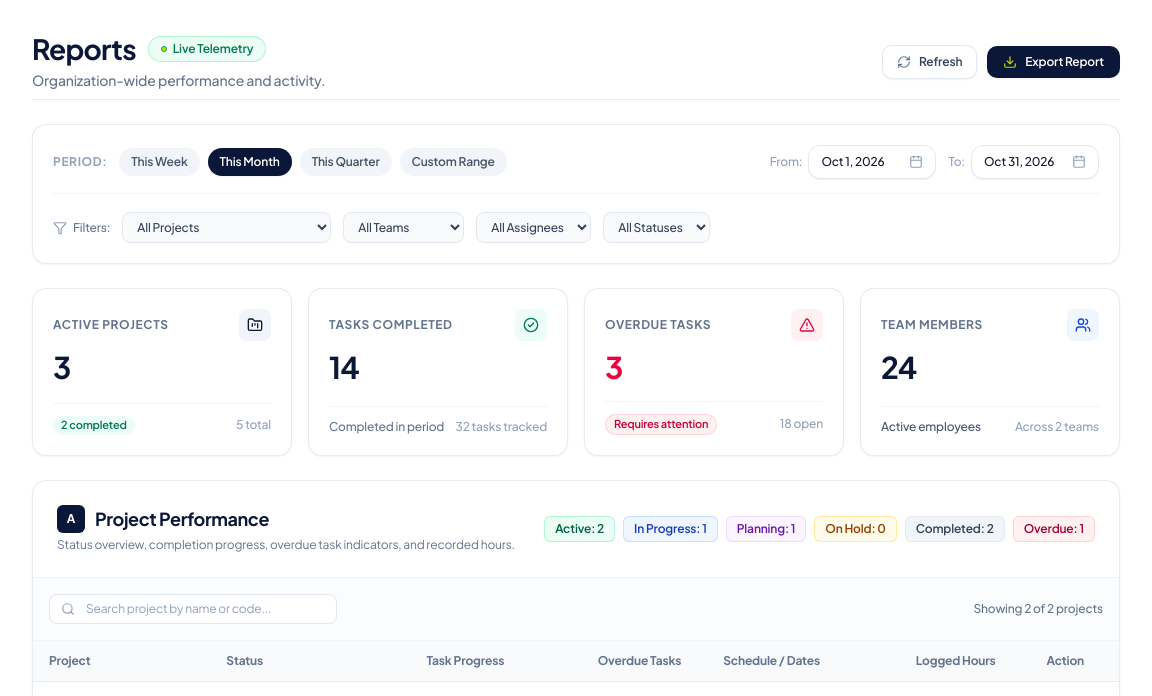
it: AdminReportsView UI/UX & Interactivity › allows period preset selection and filter dropdown interactions
Switch to This Week
Click the button "This Week". click: (160, 162)
box: [119,148,200,176]
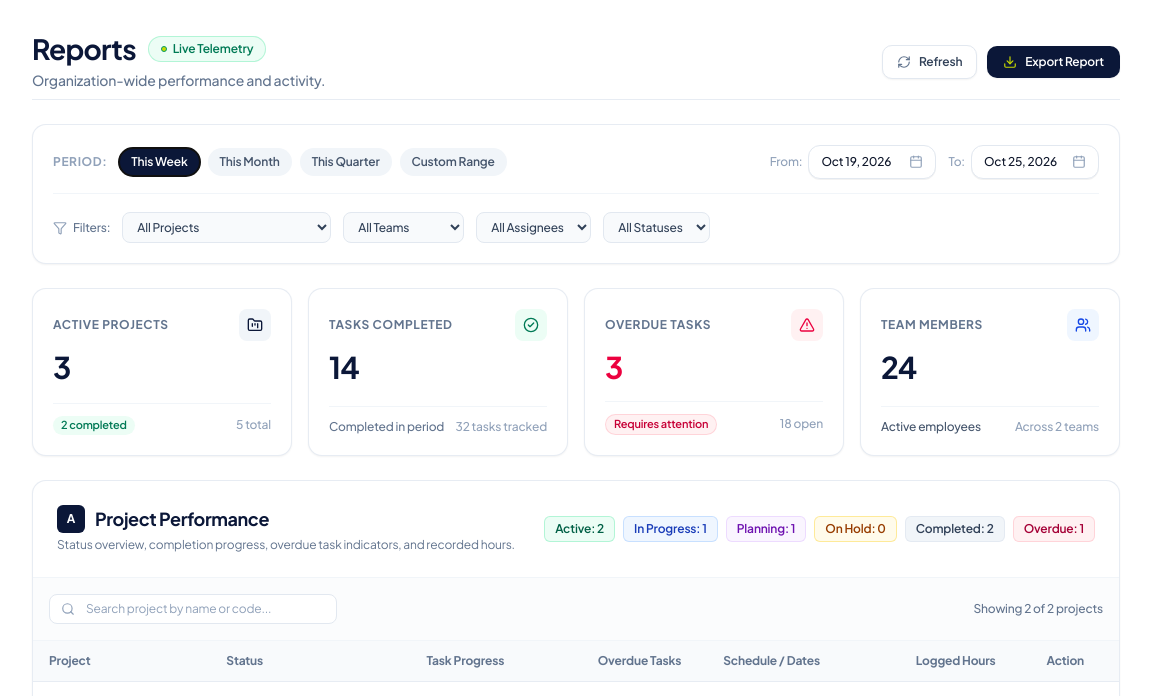
Expected: the button "This Week" has class "bg-[#0B1738]", [119,148,200,176]
Switch to This Quarter
Click the button "This Quarter". click: (346, 162)
box: [300,148,392,176]
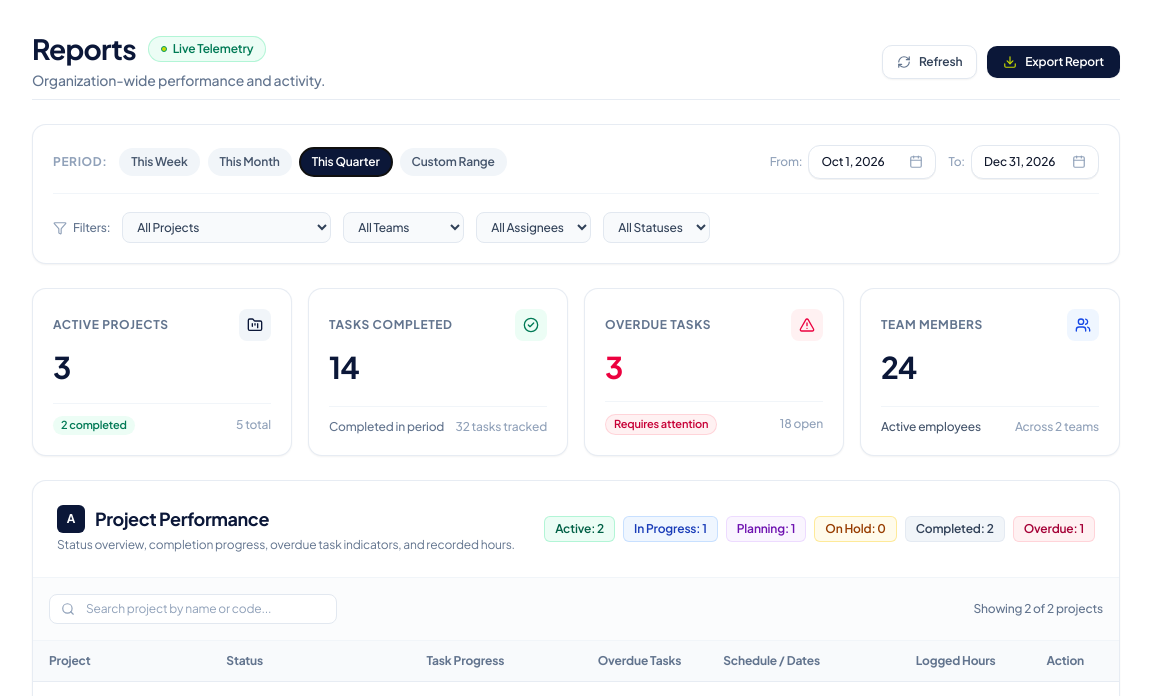
Expected: the button "This Quarter" has class "bg-[#0B1738]", [300,148,392,176]
Filter by project
Select "[ECP] Enterprise Cloud Portal" in the dropdown titled "Filter by Project". click: (227, 228)
box: [122,212,331,243]
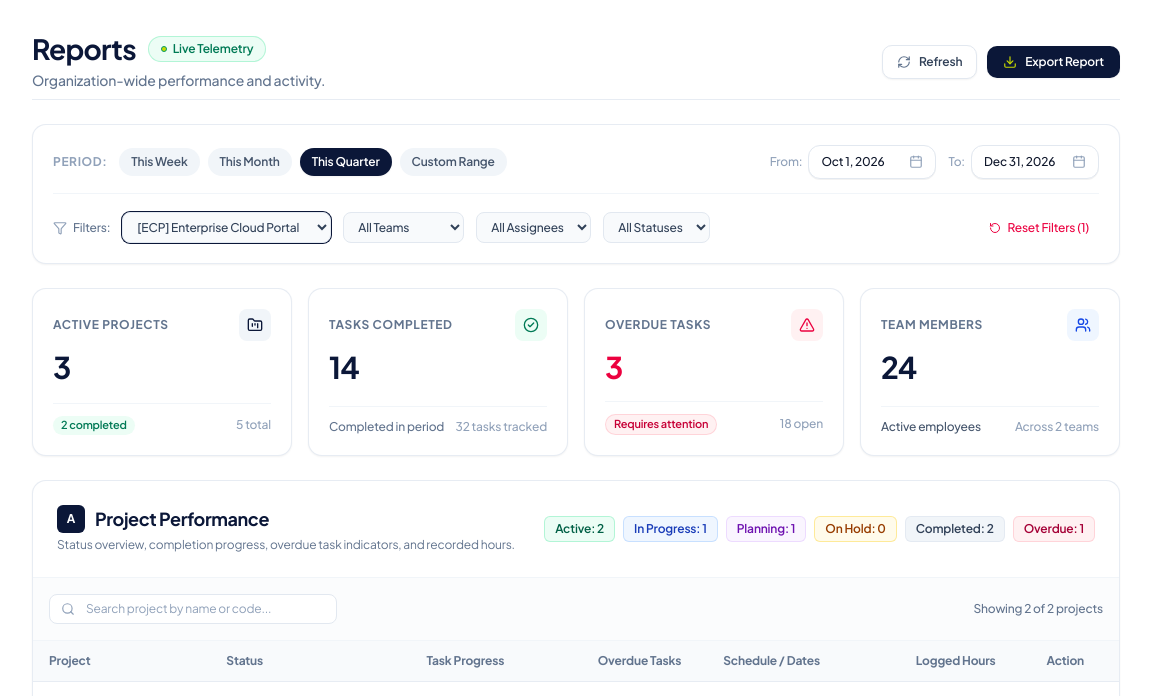
Expected: the button "Reset Filters (1)" is shown
Click Reset Filters
Click the button "Reset Filters (1)". click: (1039, 228)
box: [980,216,1099,240]
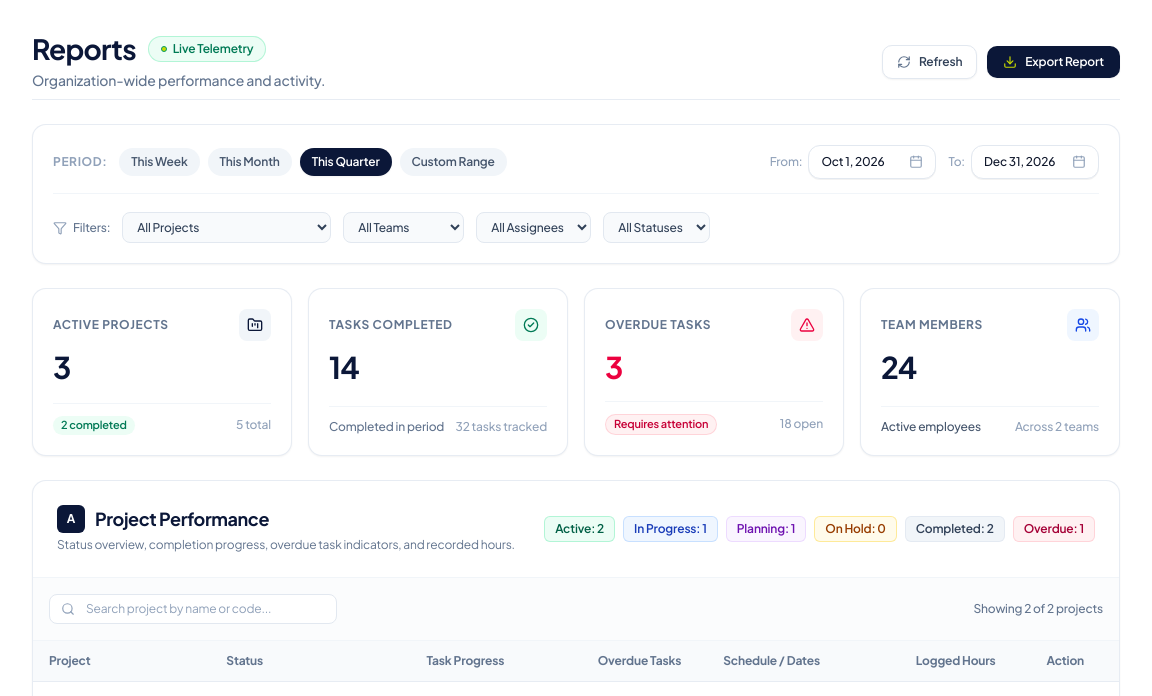
Expected: the button "Reset Filters" is gone
